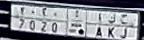0: (29, 10, 36, 31), (52, 10, 57, 33)
2: (40, 6, 47, 33)
7: (18, 7, 24, 30)
A: (95, 13, 102, 38)
J: (118, 14, 129, 40)
K: (107, 14, 116, 40)
